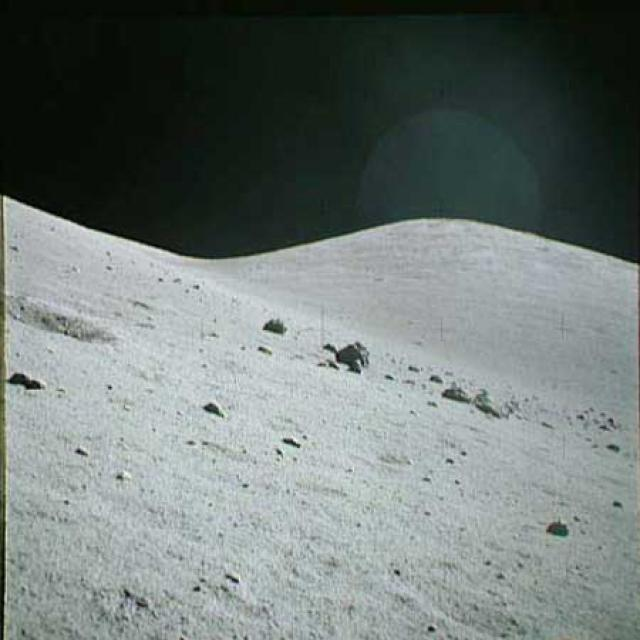crater: (10, 297, 111, 347)
rock: (334, 336, 374, 374), (472, 385, 502, 419), (8, 367, 44, 394), (439, 383, 472, 405), (259, 316, 288, 338), (203, 396, 229, 420), (546, 516, 567, 540)
